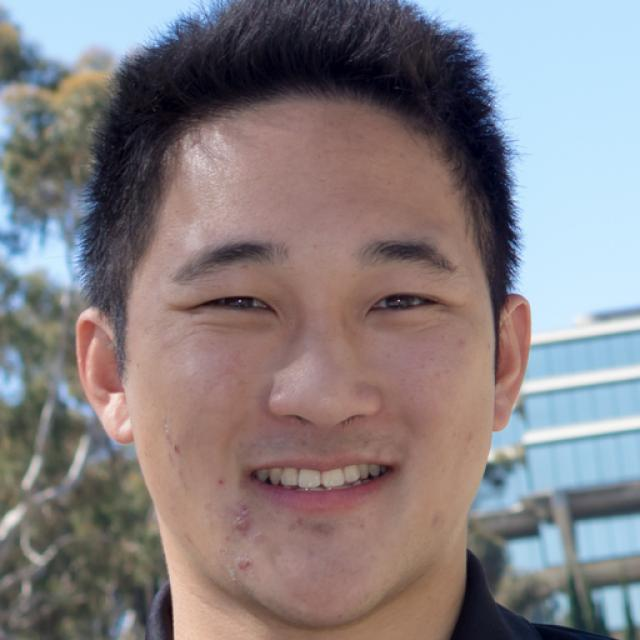Acne: (223, 498, 258, 538), (228, 552, 257, 577)
Spots: (163, 443, 188, 461), (208, 469, 226, 490)
